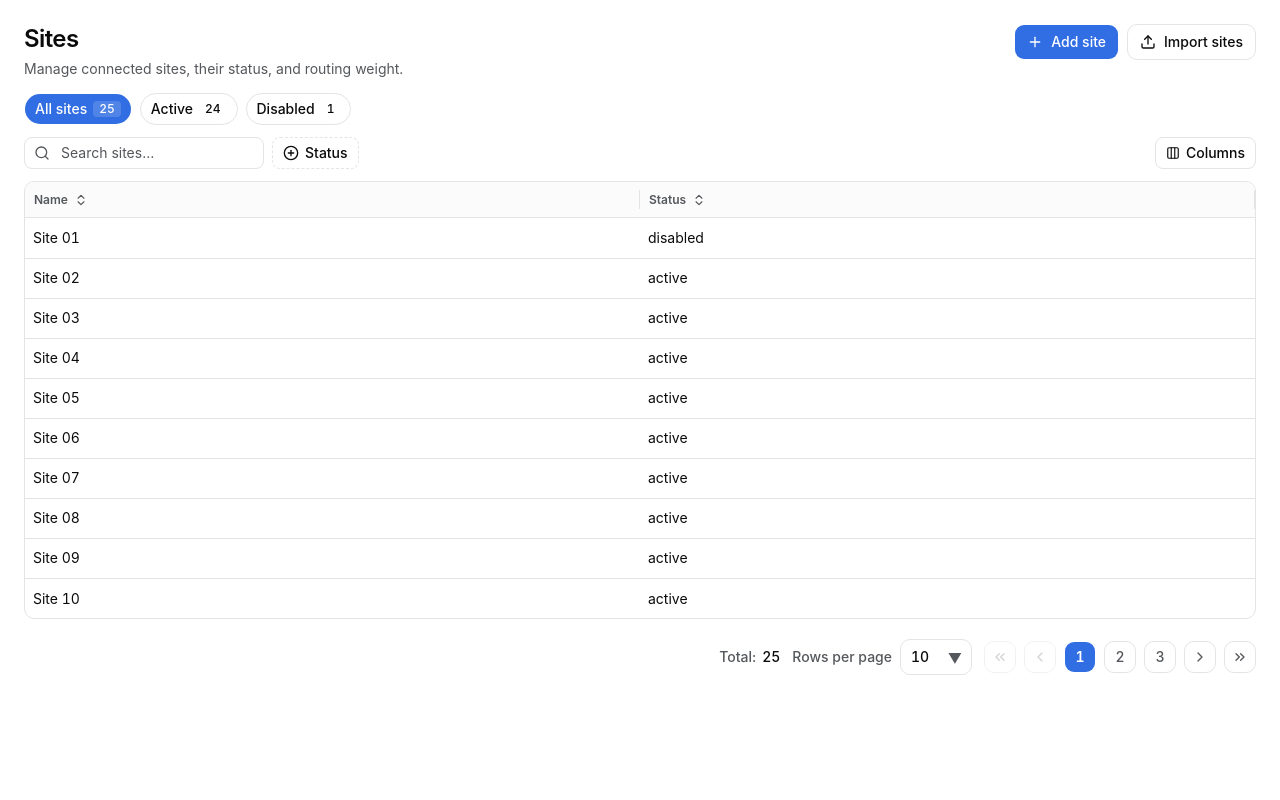
Scenario: SitesPage URL-controlled pagination › restores a status shortcut as one named filter, not string characters
The image size is (1280, 800).
Click the button "Disabled 1". click: (298, 109)
box: [246,93,352,125]
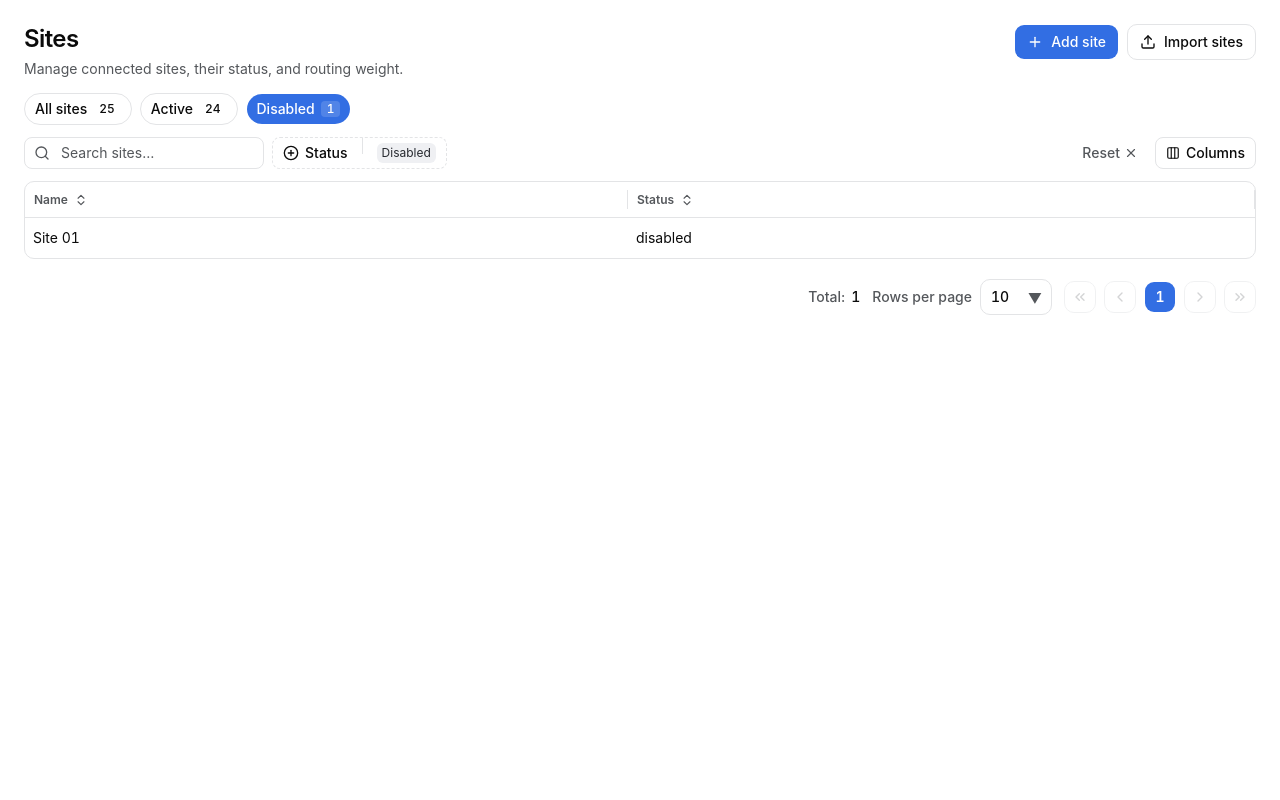
Expected: the cell "disabled" is shown, [628,218,1255,258]
Result: the button "Status Disabled" is shown at [272,137,447,169]
